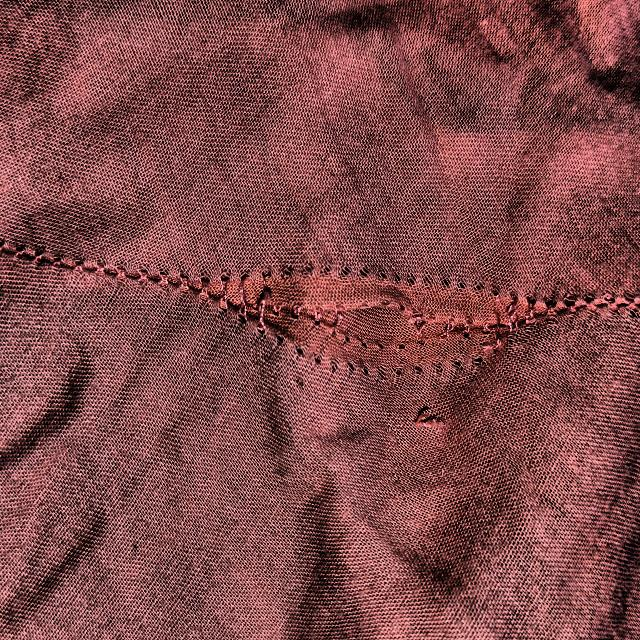seam: (213, 247, 566, 390)
